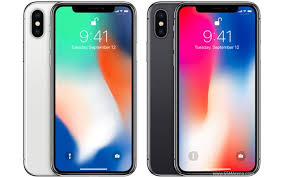iphone: (174, 2, 260, 173), (50, 3, 136, 174)
iphone10: (49, 2, 135, 173), (174, 4, 260, 175)
